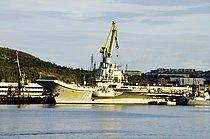MIL_Ship: (37, 62, 193, 108)
